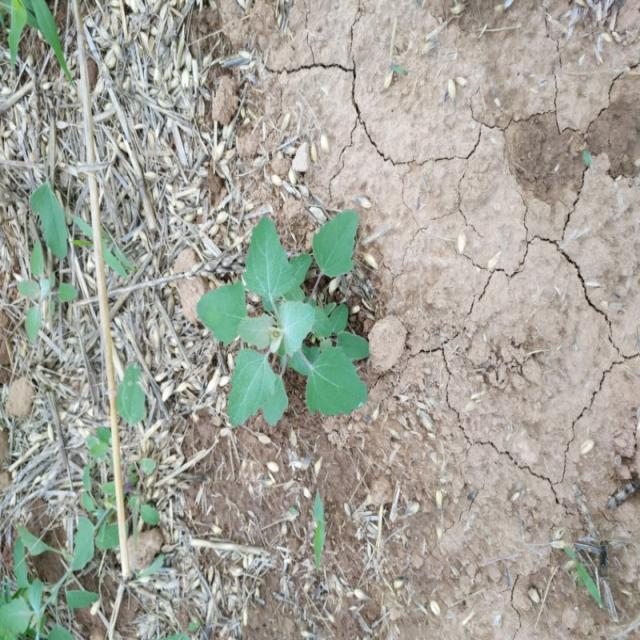goosefoots: (174, 196, 376, 433)
